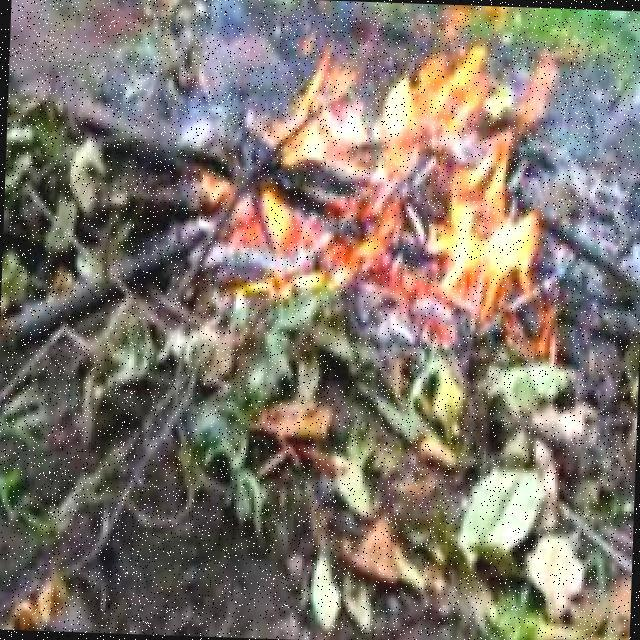Fire: (205, 21, 573, 322)
